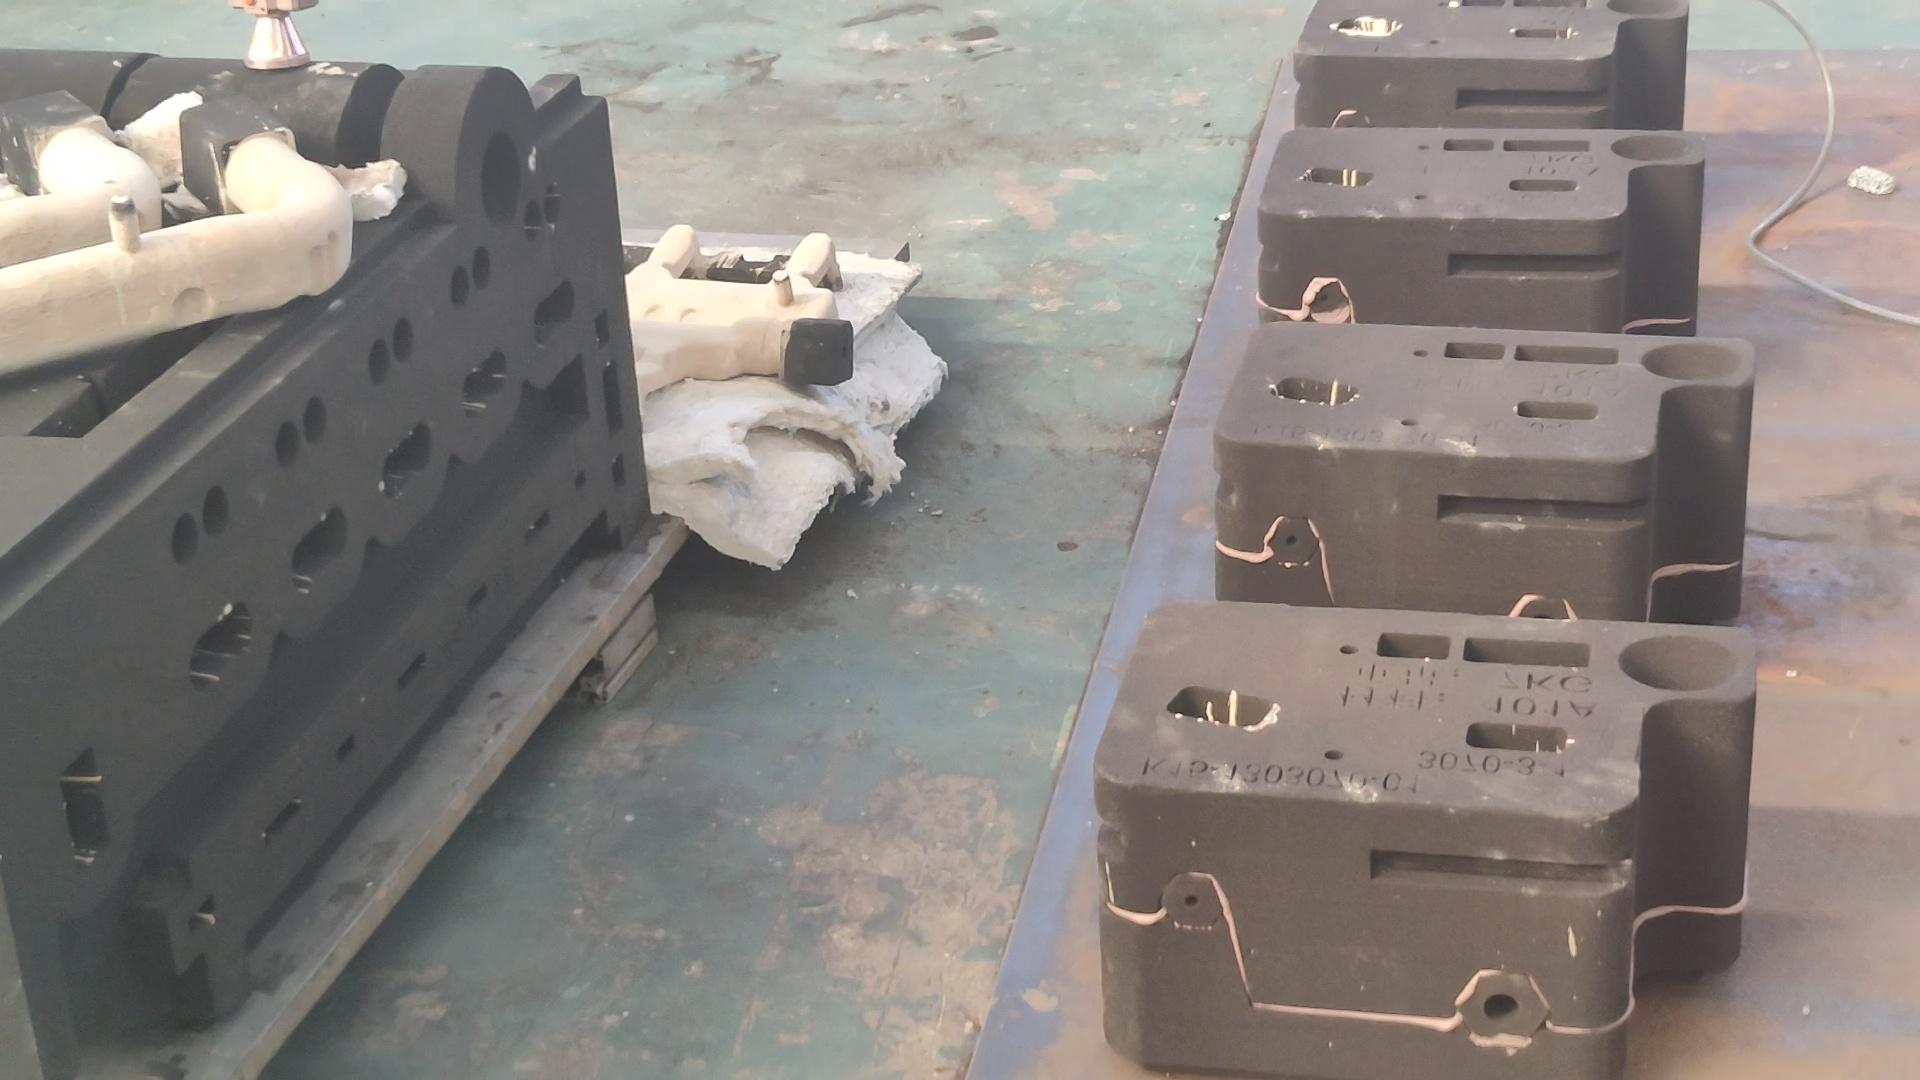pouring hole: (1618, 636, 1739, 690), (480, 131, 524, 225), (1640, 342, 1743, 380), (1611, 135, 1691, 160), (1605, 1, 1683, 15)
